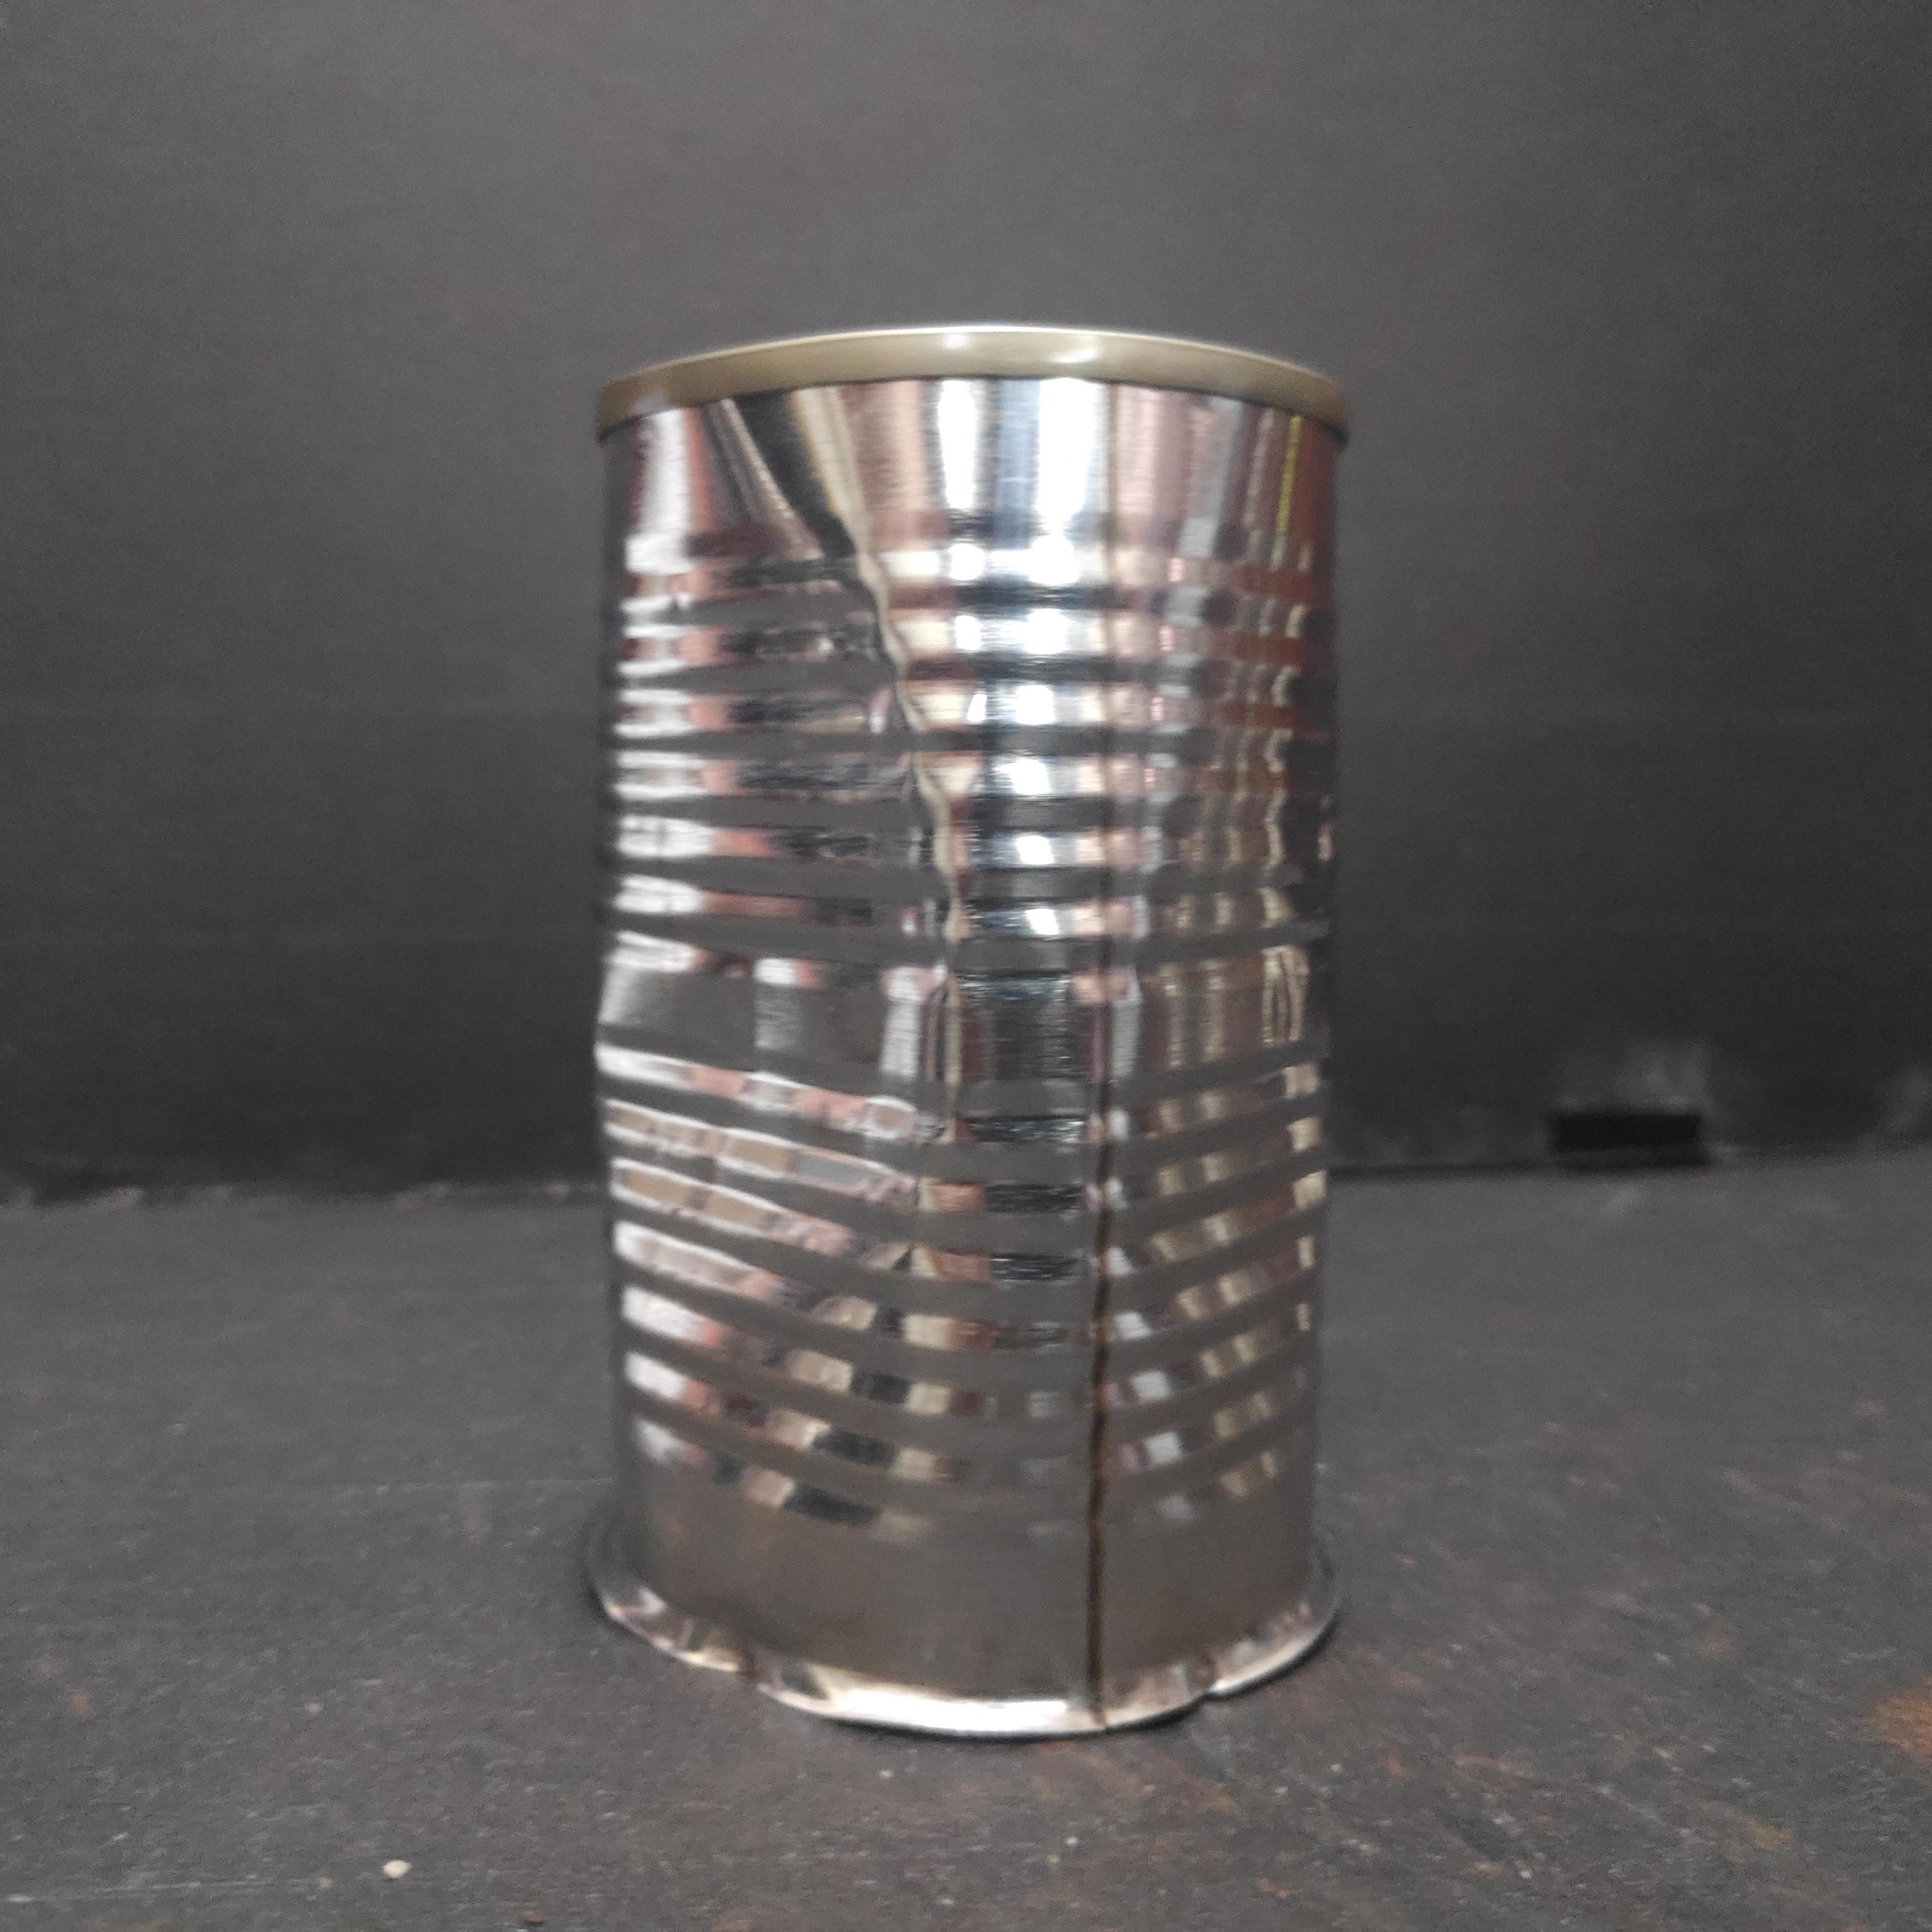Minor Defect: (573, 314, 1367, 1752)
